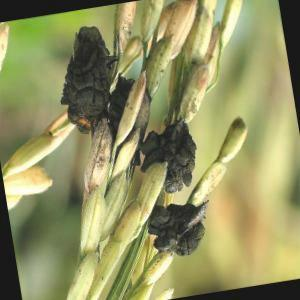Leaf_Scald: (74, 27, 109, 136), (150, 119, 198, 186), (157, 203, 212, 252)
